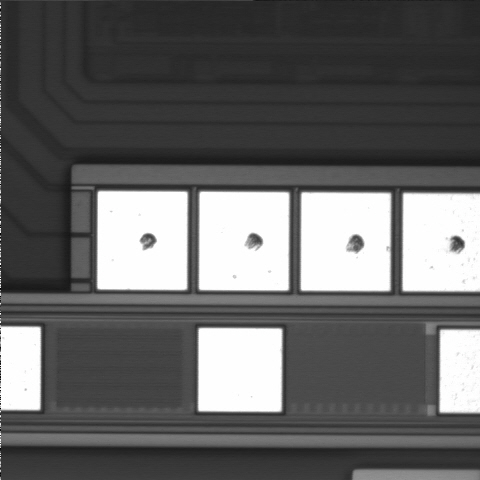pad: (97, 191, 187, 290), (199, 192, 289, 290), (301, 193, 391, 291), (198, 328, 282, 412)
